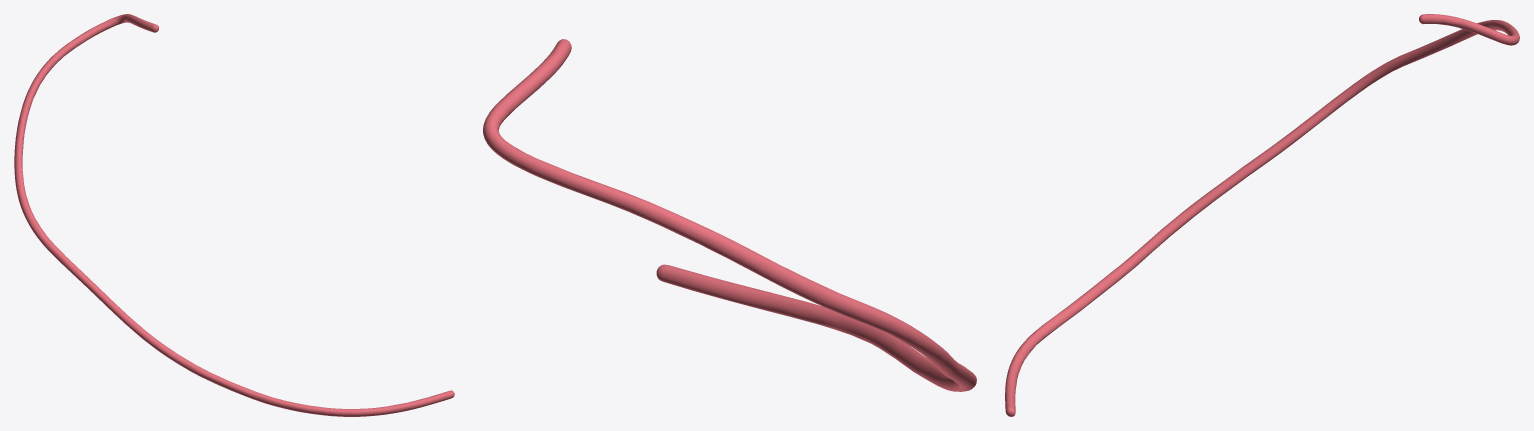
The model's file is fma5041_fj1950.glb.
3 views of the same model, side by side, from view 1: azimuth 30°, elevation 25°; view 2: azimuth 150°, elevation 25°; view 3: azimuth 270°, elevation 25° (orthographic). The views are drawn at different scales.
Parts seen in each view (by area): view 1: FMA5041_FJ1950; view 2: FMA5041_FJ1950; view 3: FMA5041_FJ1950.
Part boxes in pixels (x1,y1,x2,y2): FMA5041_FJ1950: [14, 14, 454, 416]; FMA5041_FJ1950: [483, 39, 976, 391]; FMA5041_FJ1950: [1005, 14, 1519, 416].
Bounding box in the file's own units: 0.0789 × 0.0744 × 0.1043.
